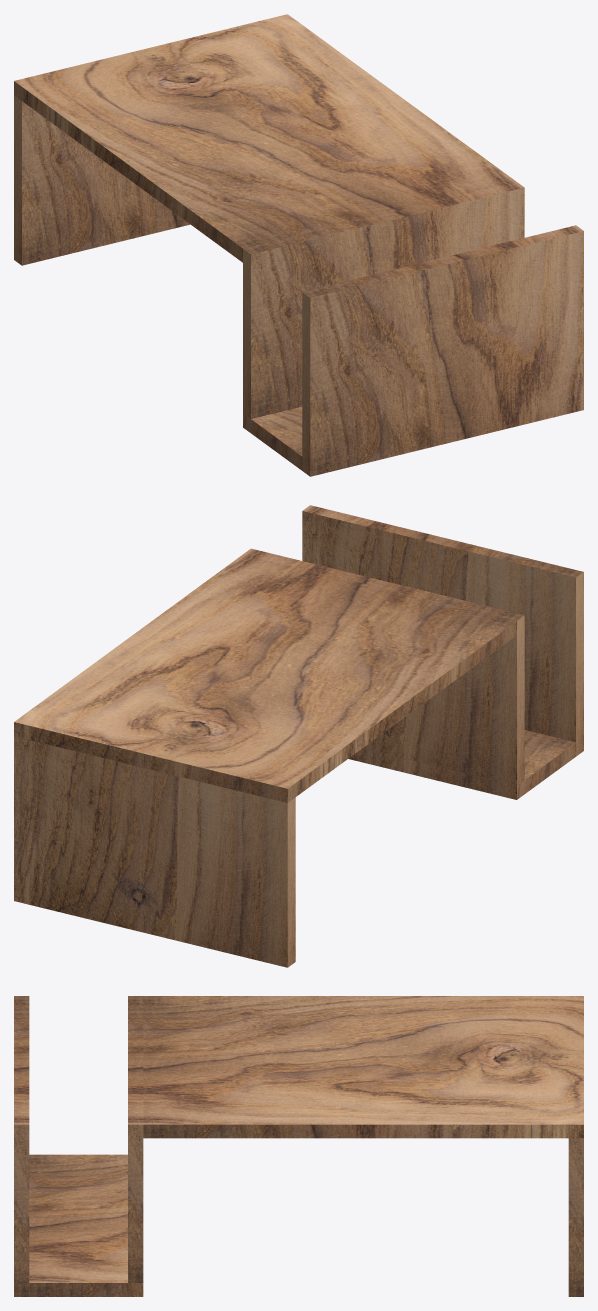
3 views of the same model, one above another, from view 1: azimuth 30°, elevation 25°; view 2: azimuth 150°, elevation 25°; view 3: azimuth 270°, elevation 25° (orthographic). The views are drawn at different scales.
Bounding box in the file's own units: 0.8 × 0.5 × 1.5.
2 materials, 1 textured.
